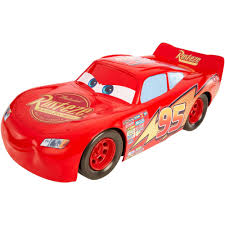mcqueen: (1, 41, 224, 183)
